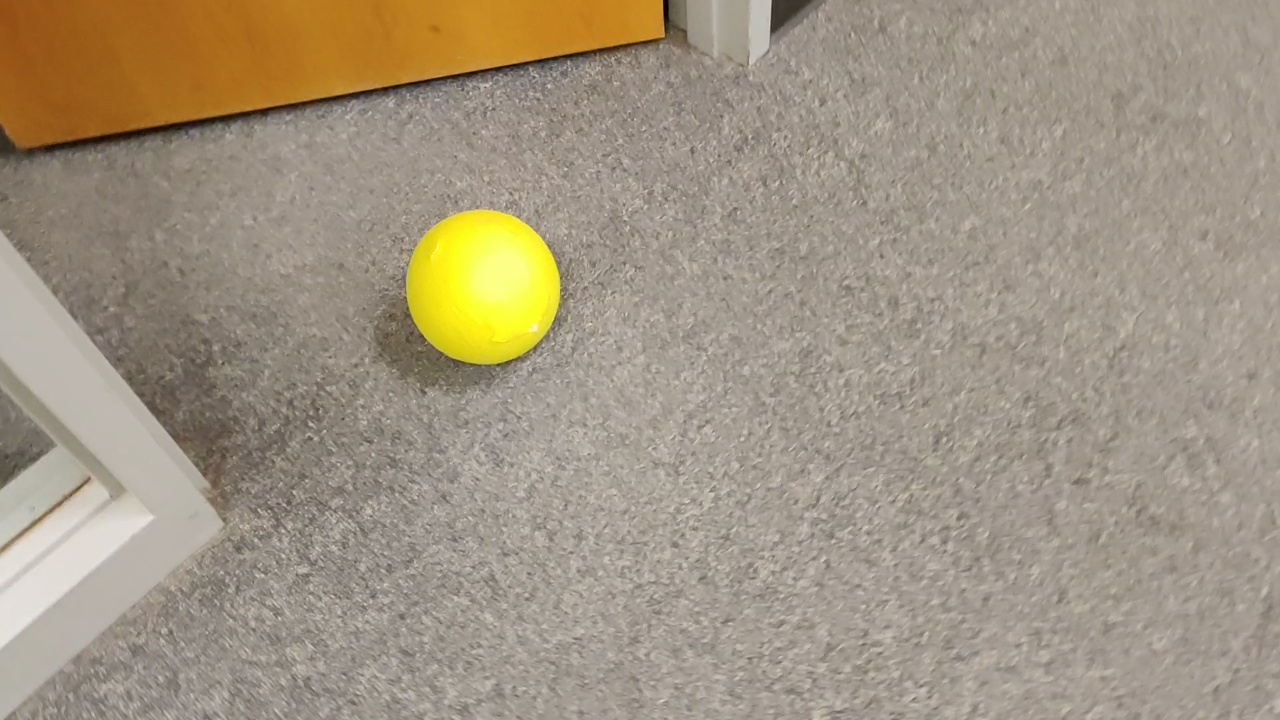Ball: (376, 198, 565, 387)
